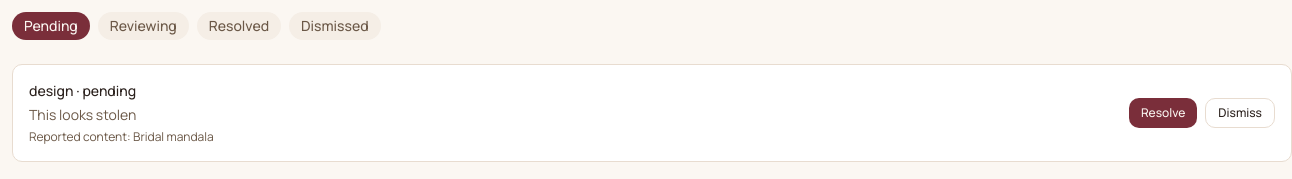
ModerationQueueView › lets a viewer who can act resolve a report
Expected: the text "This looks stolen" is shown, [29, 105, 136, 124]
What coordinates should you click on to do the following:
click the button "Resolve"
I would click on:
 (1163, 113)
Its box is [1129, 98, 1197, 128].
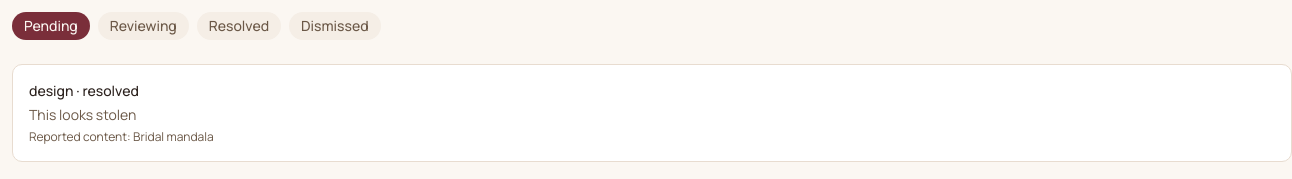
Now the text "design · resolved" is shown, box [29, 81, 139, 100]
